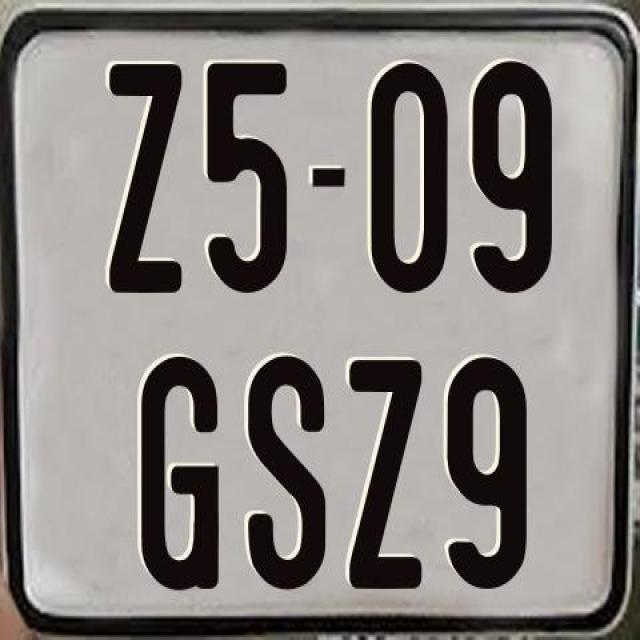0: (368, 58, 452, 294)
5: (206, 59, 292, 299)
9: (444, 355, 524, 592), (468, 58, 548, 292)
G: (142, 357, 226, 600)
S: (248, 354, 326, 598)
Z: (346, 360, 424, 598), (109, 62, 184, 293)
